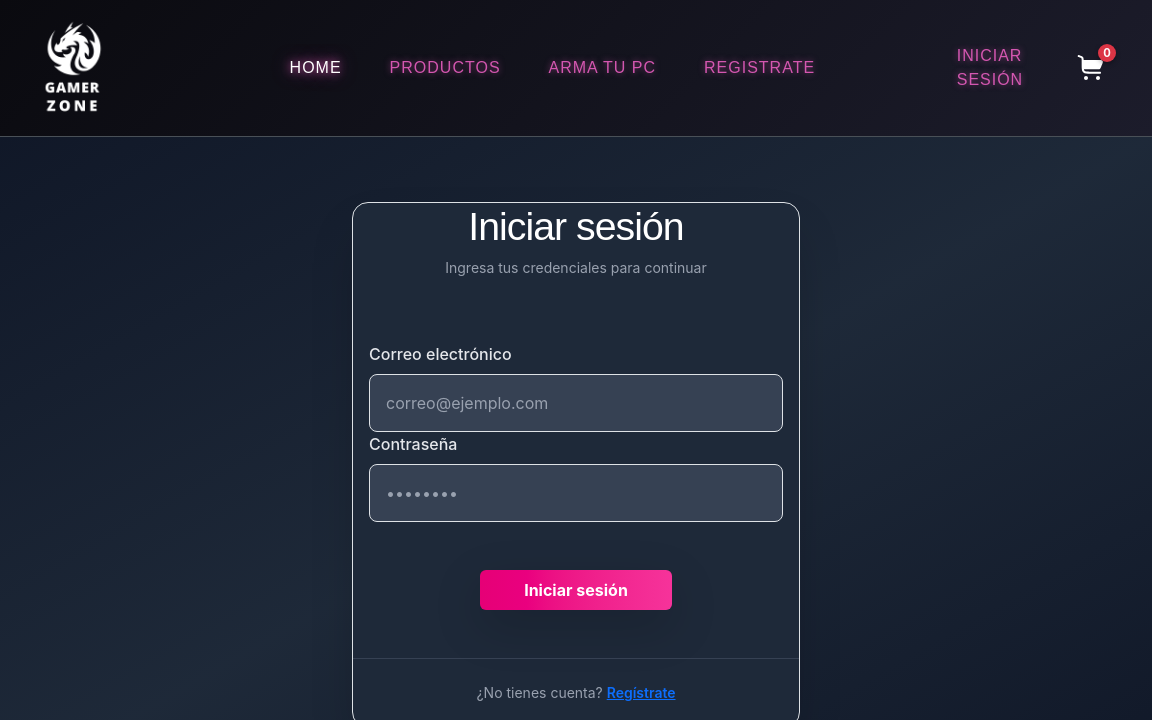
it: Login Component › muestra error cuando las credenciales son invalidas
Type "user@example.com" into the field with placeholder "correo@ejemplo.com" at (576, 403), box left=369, top=374, right=783, bottom=432
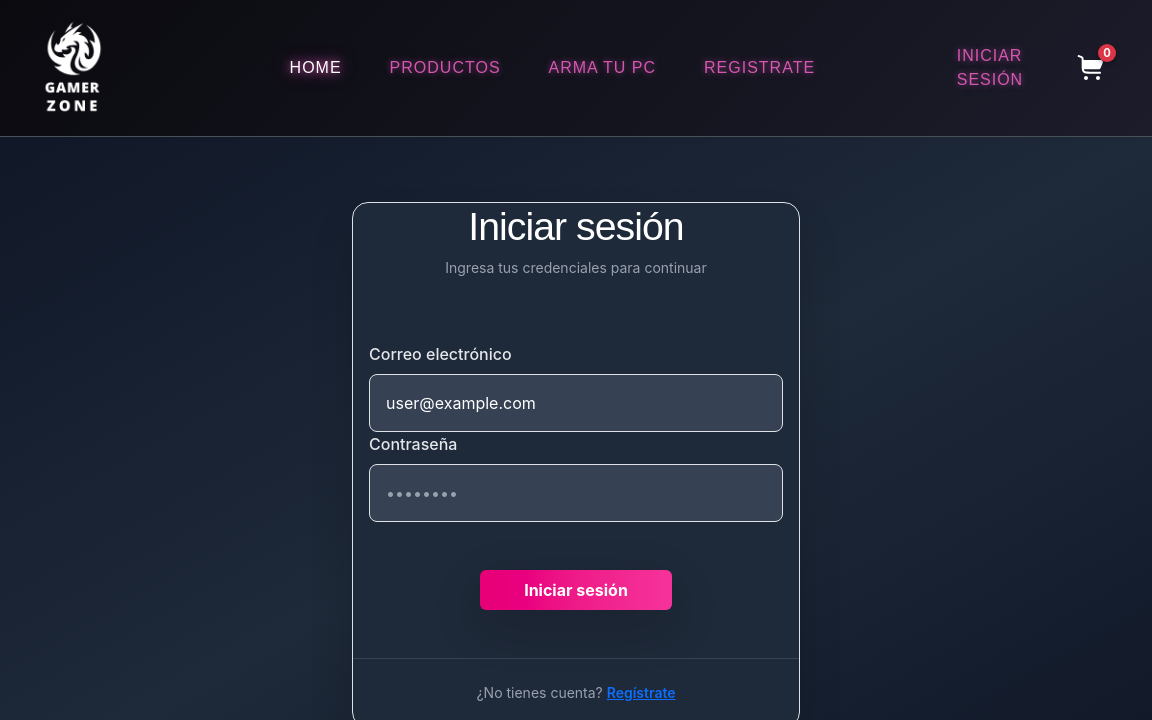
Type "wrongpassword" into the password field with placeholder "••••••••" at (576, 493), box left=369, top=464, right=783, bottom=522
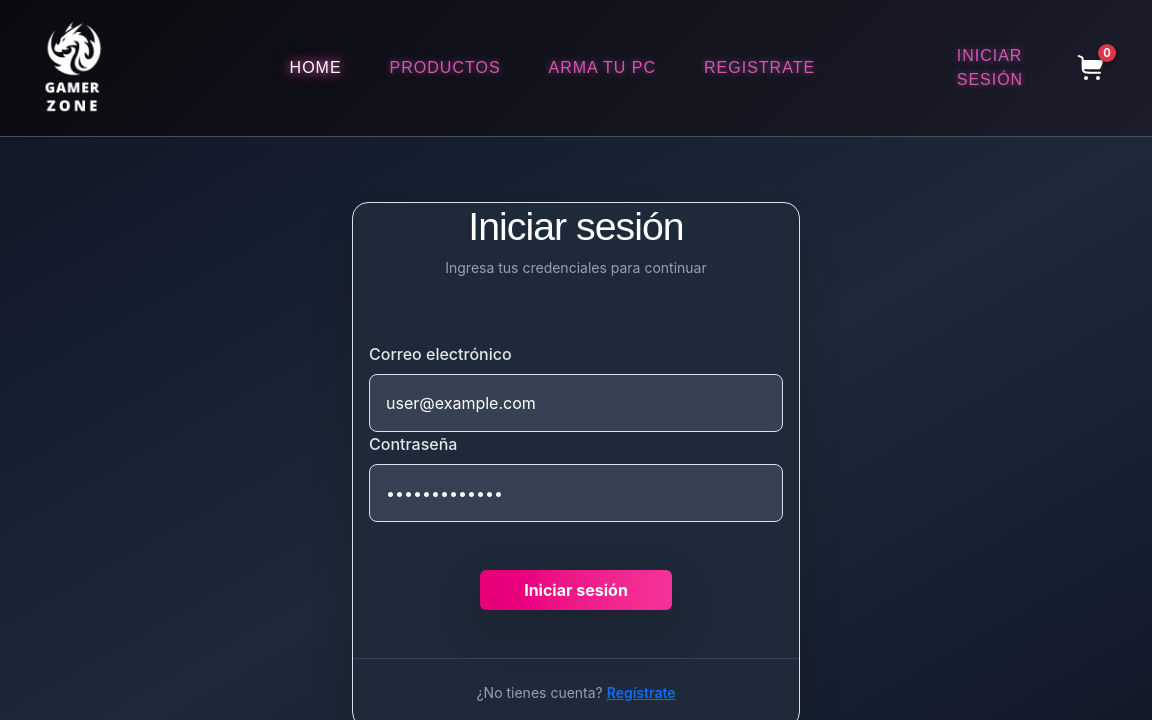
Click the button "Iniciar sesión" at (576, 590), box left=480, top=570, right=672, bottom=610
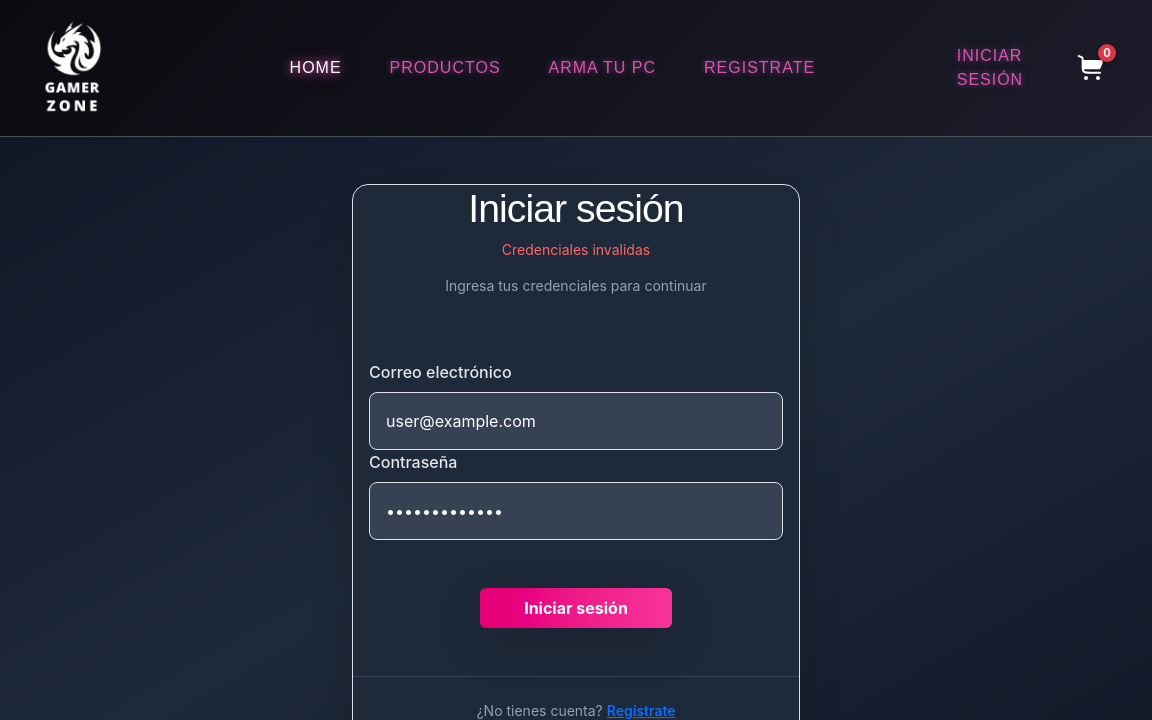
Expected: the text "Credenciales invalidas" is shown, left=502, top=241, right=650, bottom=258
